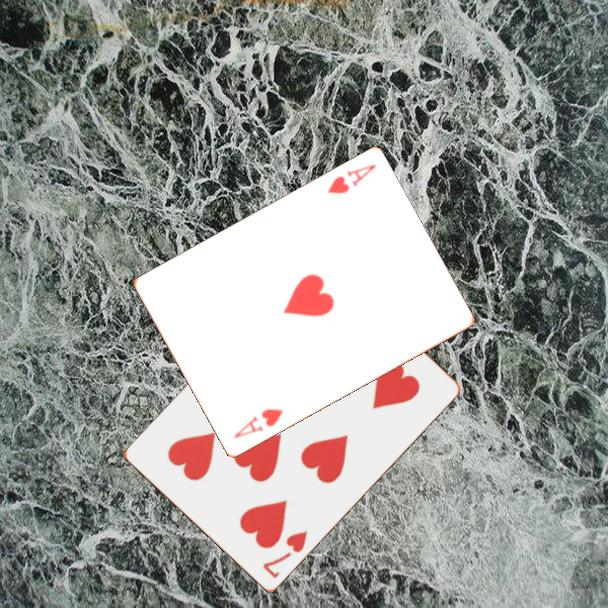h01: (230, 405, 286, 442), (323, 161, 379, 197)
h07: (259, 528, 310, 582)
